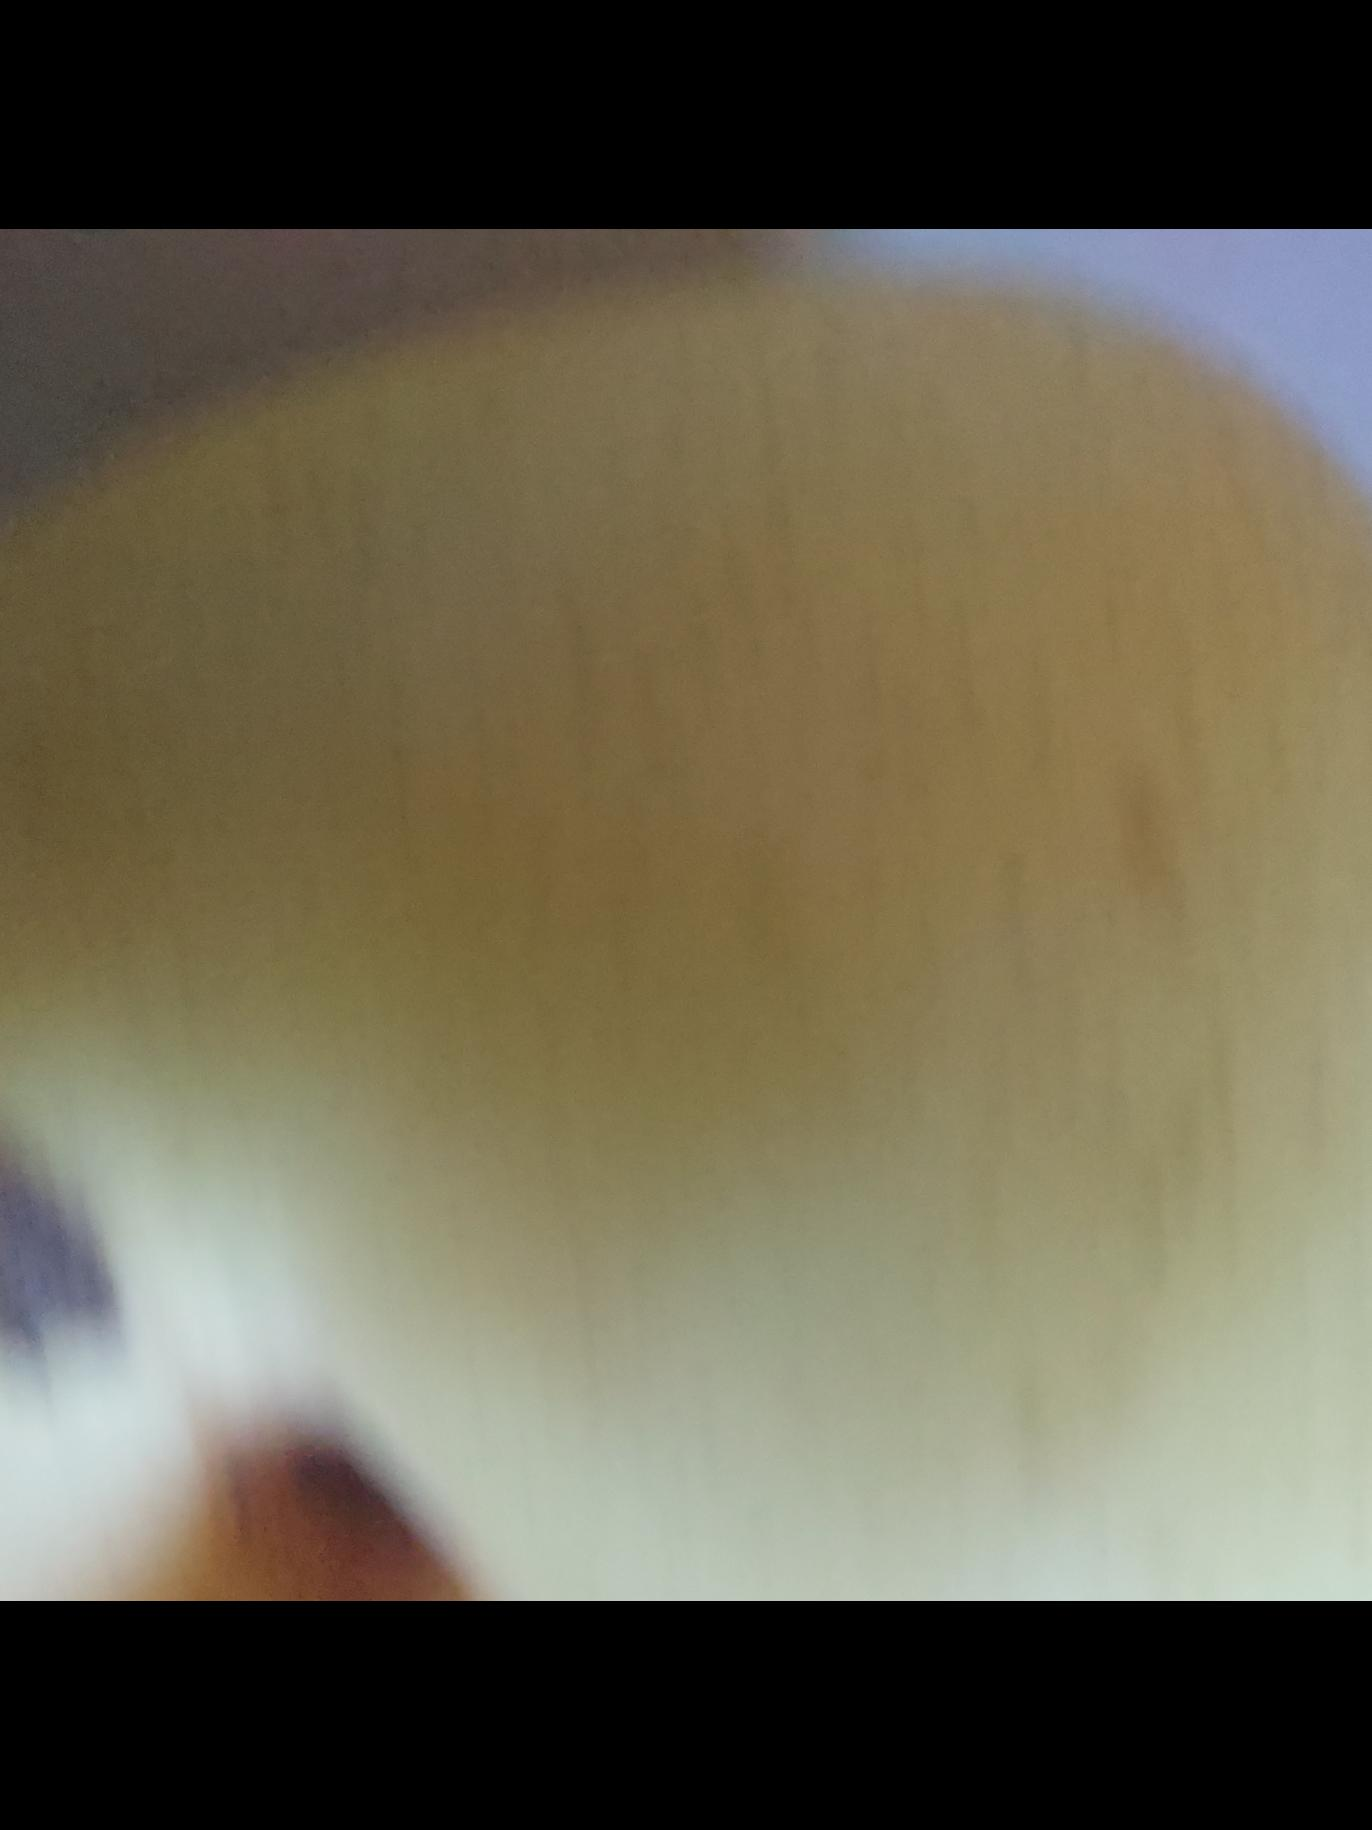Good Pear: (0, 275, 1372, 1601)
